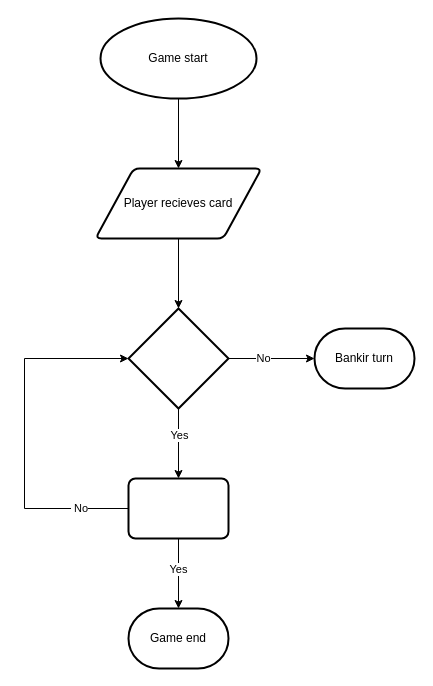
The diagram is 433 pixels wide and 686 high, and some of its shapes have lost their labels. Here are the shapes that lost their labels. From the top down, the centre of each, then its label:
the point at 178,358: Take new card?
the point at 178,508: Bust?
